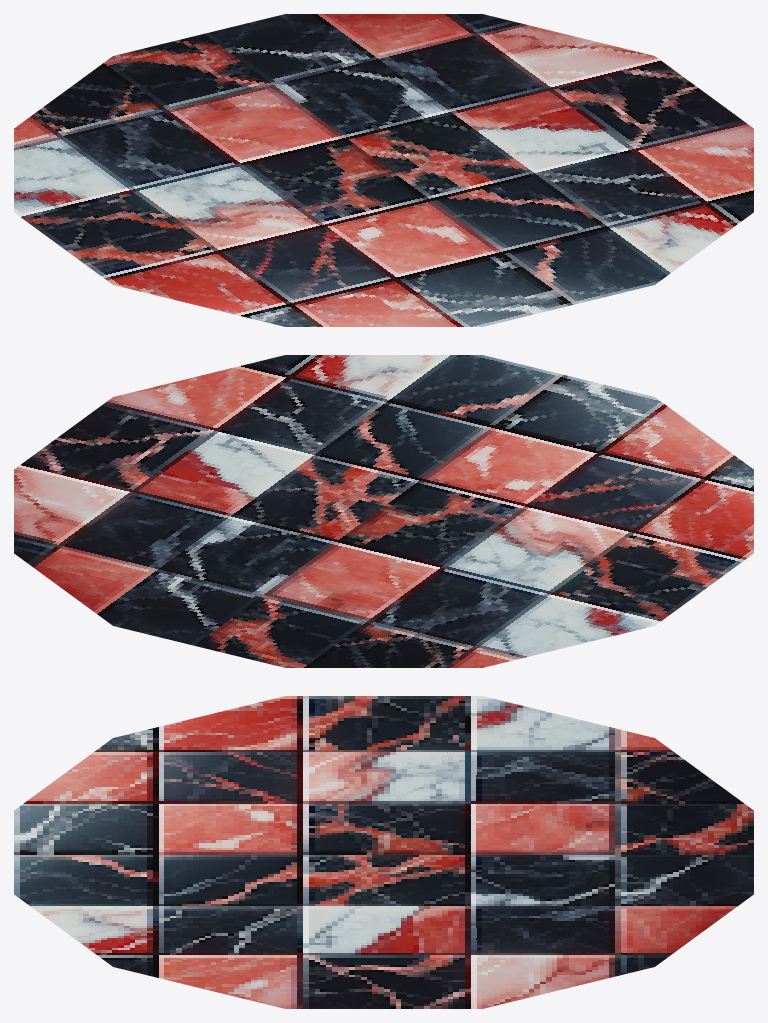
The model's file is mod_startup_tiles1.gltf.
3 renders of one model, top to bottom at view 1: azimuth 30°, elevation 25°; view 2: azimuth 150°, elevation 25°; view 3: azimuth 270°, elevation 25°, orthographic.
Parts seen in each view (by area): view 1: cylinder; view 2: cylinder; view 3: cylinder.
Boxes of the visible parts, <box> form: cylinder: <box>14,14,753,326</box>; cylinder: <box>14,355,753,667</box>; cylinder: <box>14,696,753,1008</box>.
Size of the model in its own units: 4.38 by 0 by 4.38.
1 material, 1 textured.
